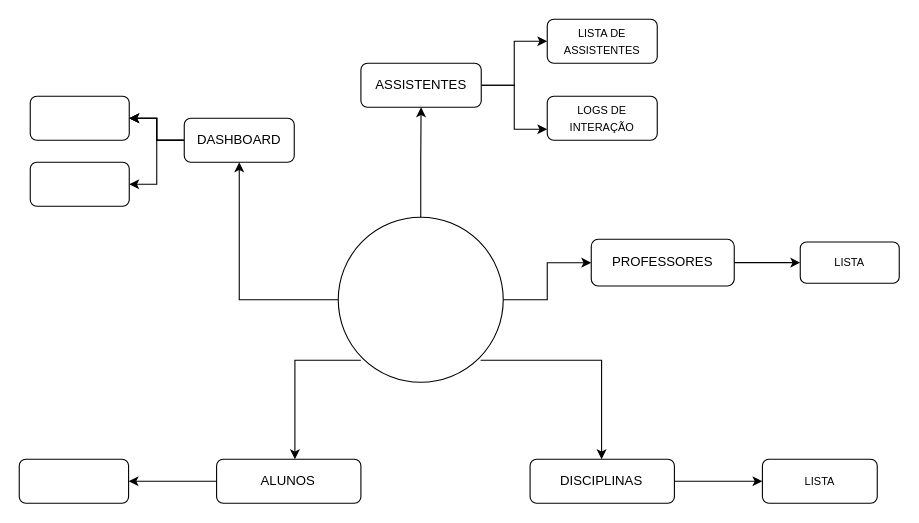
Some shapes in this 919 by 523 pixel diagram are drawn without their labels. The box of each missing label's shape, as (x1, y1, x2, y2) in pixels:
ADMINISTRAÇÃO: (29, 95, 129, 140)
IACASESTUDY: (337, 216, 503, 382)
LISTA DE ALUNOS: (18, 458, 129, 503)
LOGOUT: (29, 161, 129, 206)
